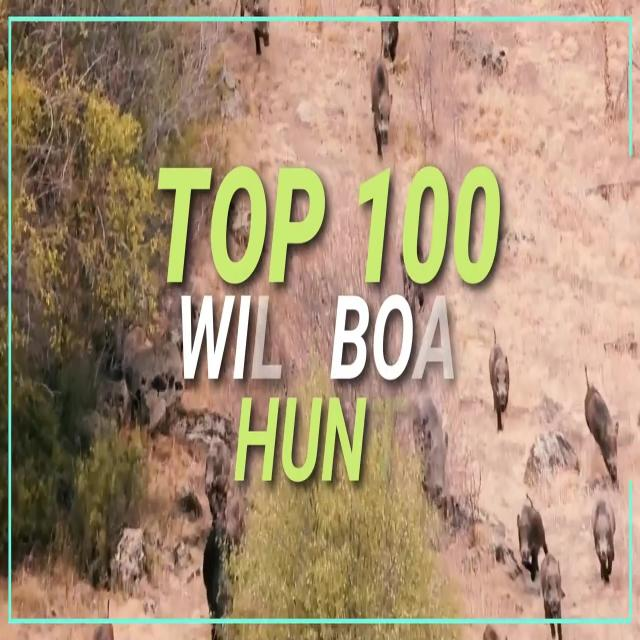pig: (571, 368, 639, 497), (360, 50, 411, 170), (485, 302, 529, 439), (566, 497, 622, 575), (234, 0, 280, 58), (543, 554, 577, 630), (365, 0, 405, 58), (516, 504, 551, 570)
